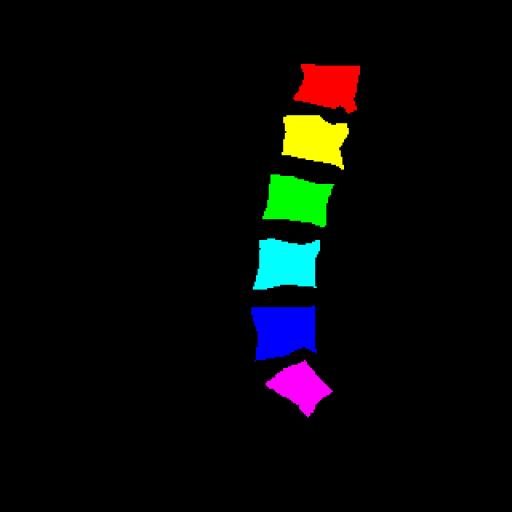L1: (296, 64, 360, 112)
L2: (282, 115, 349, 170)
L3: (264, 176, 334, 226)
L4: (253, 240, 320, 290)
L5: (251, 306, 316, 360)
S1: (266, 361, 332, 416)
